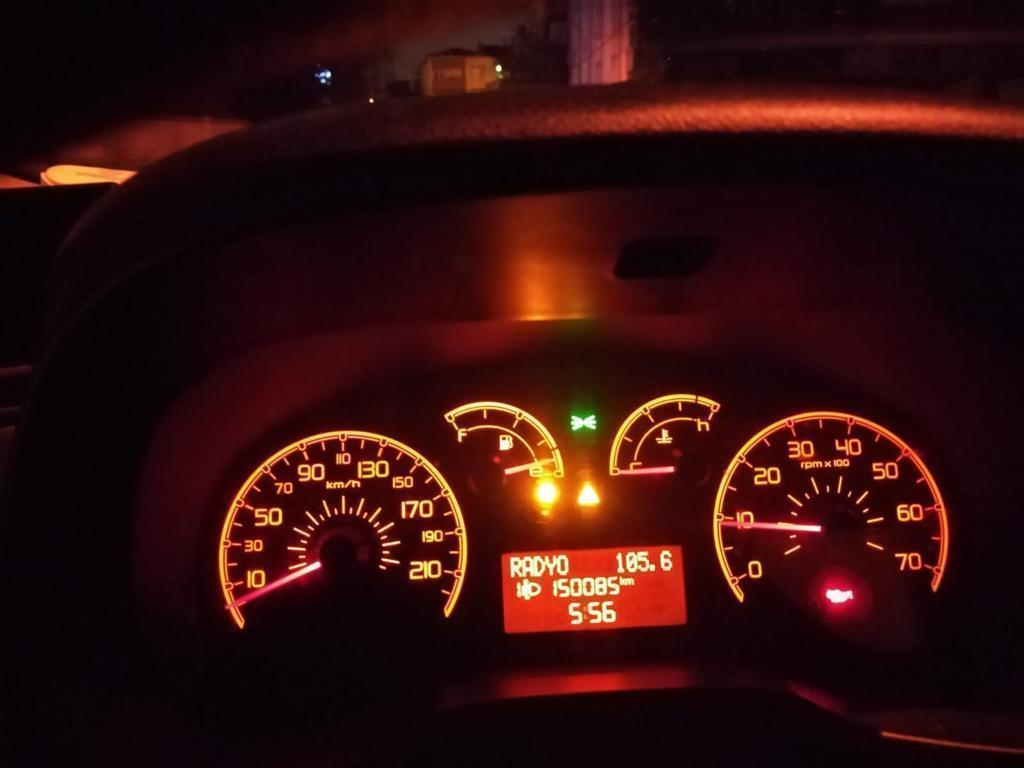,: (649, 562, 657, 573)
0: (625, 550, 637, 573), (582, 575, 594, 596), (570, 576, 582, 597)
1: (614, 550, 625, 574), (515, 580, 520, 600), (552, 579, 557, 598)
5: (568, 602, 583, 624), (587, 600, 601, 623), (637, 549, 649, 573), (607, 575, 619, 596), (557, 577, 569, 597)
6: (601, 600, 616, 623), (659, 549, 673, 572)
8: (595, 575, 607, 596)
X: (509, 555, 522, 577), (533, 554, 545, 577), (557, 554, 570, 575), (545, 553, 557, 575), (522, 554, 532, 577), (624, 577, 635, 586), (583, 604, 587, 620), (619, 575, 624, 585)
odometer: (495, 543, 692, 631)
